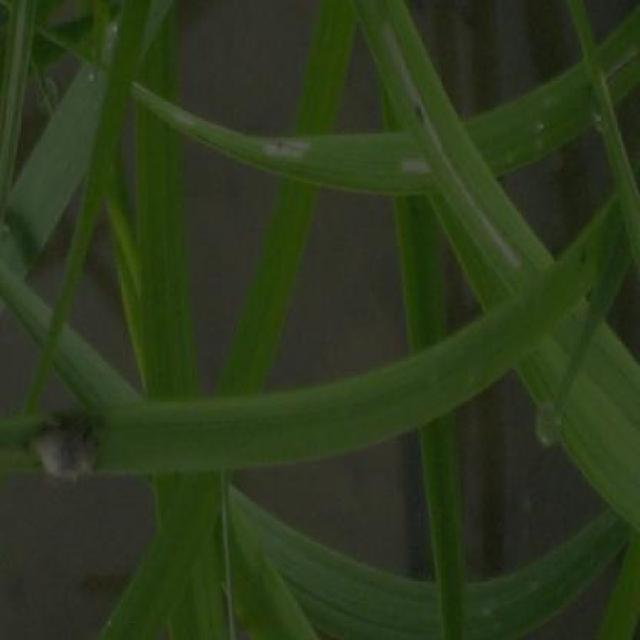rice-bug: (30, 408, 104, 483)
